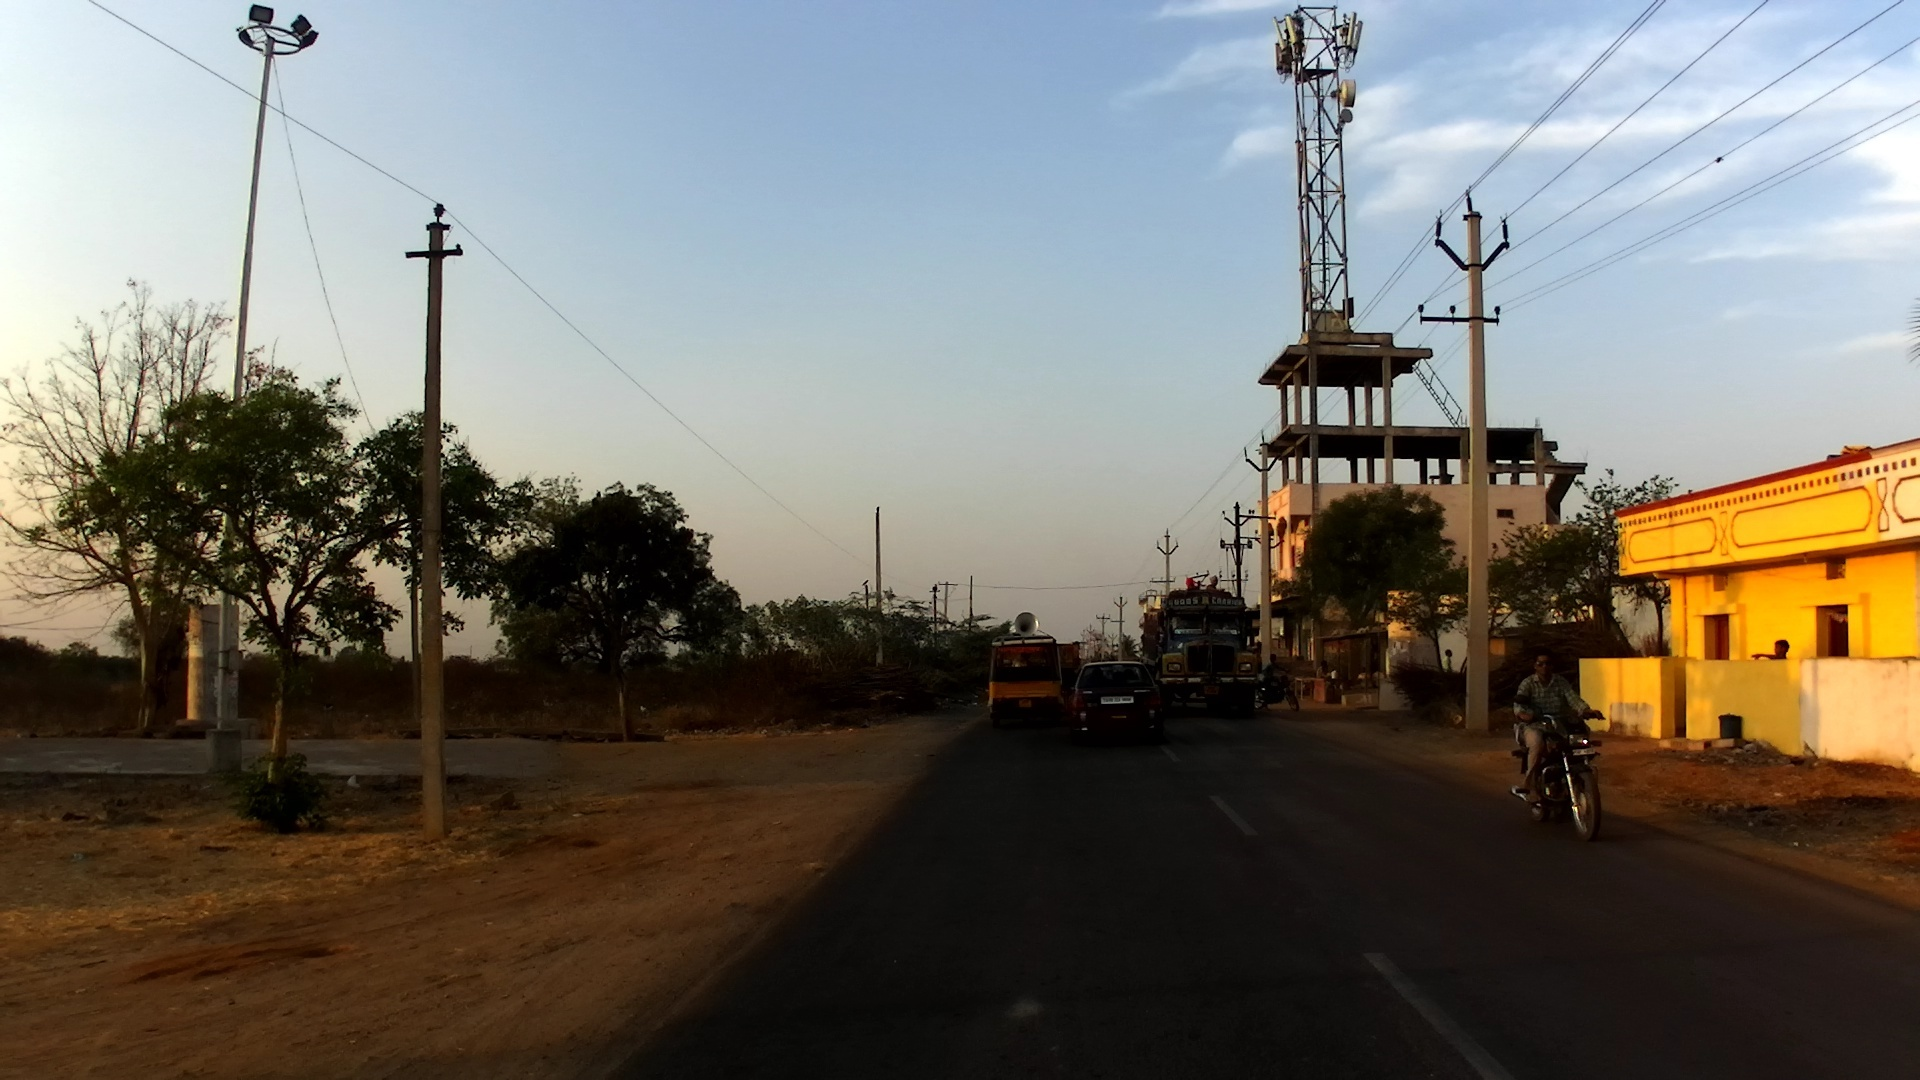car: (986, 611, 1068, 735), (1062, 658, 1164, 751)
motorcycle: (1496, 694, 1606, 844), (1255, 676, 1303, 714)
person: (1754, 640, 1792, 664), (1372, 665, 1388, 694), (1316, 658, 1332, 684), (1440, 647, 1455, 675), (1352, 668, 1372, 689)
rider: (1513, 647, 1602, 808), (1261, 651, 1294, 711), (1208, 574, 1222, 593), (1184, 578, 1201, 590)
truck: (1136, 590, 1259, 725)
vehicle fallback: (1057, 640, 1084, 694)
